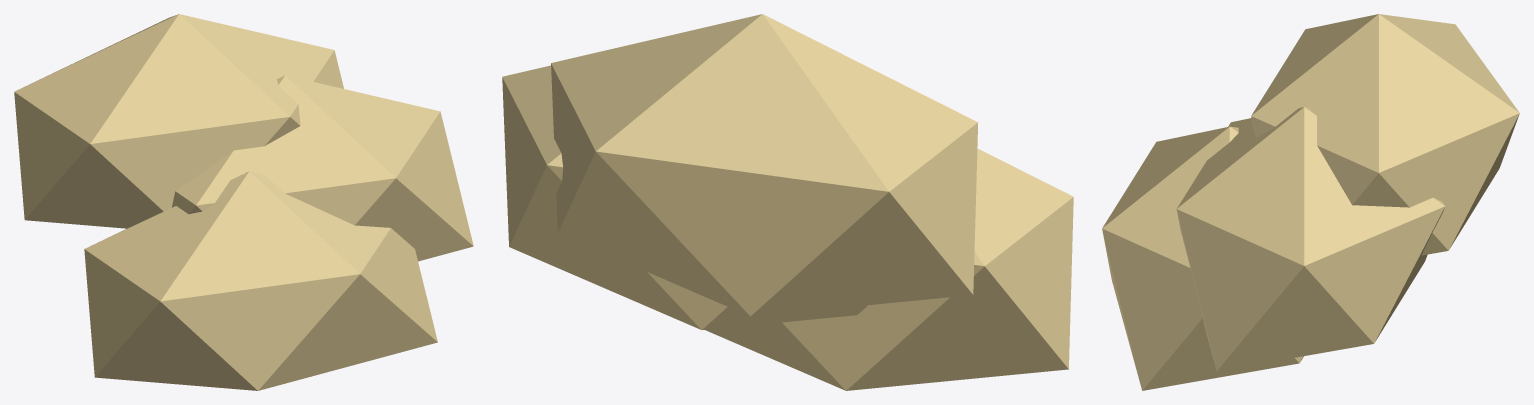
File: item_067_millet_m.glb
3 views of the same model, side by side, from view 1: azimuth 30°, elevation 25°; view 2: azimuth 150°, elevation 25°; view 3: azimuth 270°, elevation 25° (orthographic). The views are drawn at different scales.
Visible parts, largest first — view 1: item_067_millet_m; view 2: item_067_millet_m; view 3: item_067_millet_m.
Boxes of the visible parts, x1,y1,x2,y2 form: item_067_millet_m: [14, 14, 473, 390]; item_067_millet_m: [502, 14, 1073, 390]; item_067_millet_m: [1102, 14, 1519, 390].
Size of the model in its own units: 0.3761 by 0.3045 by 0.3364.
